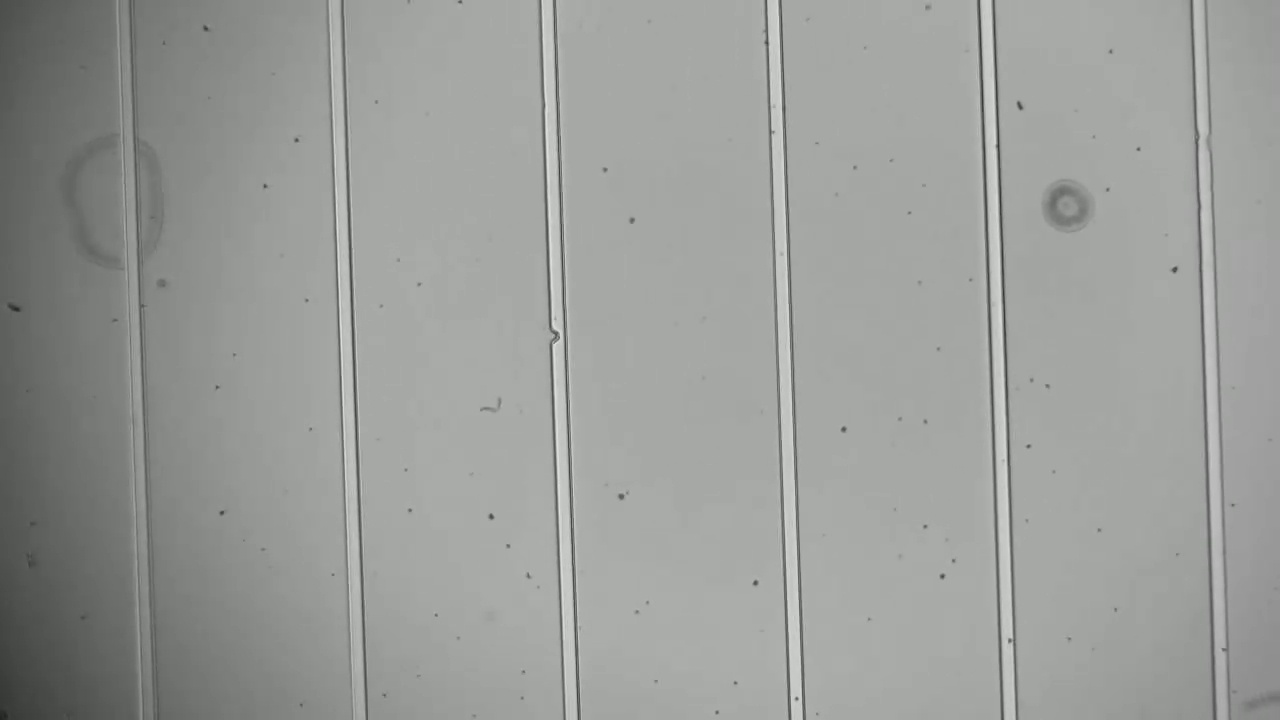edge_bite: (1182, 120, 1224, 166), (543, 319, 577, 350)
